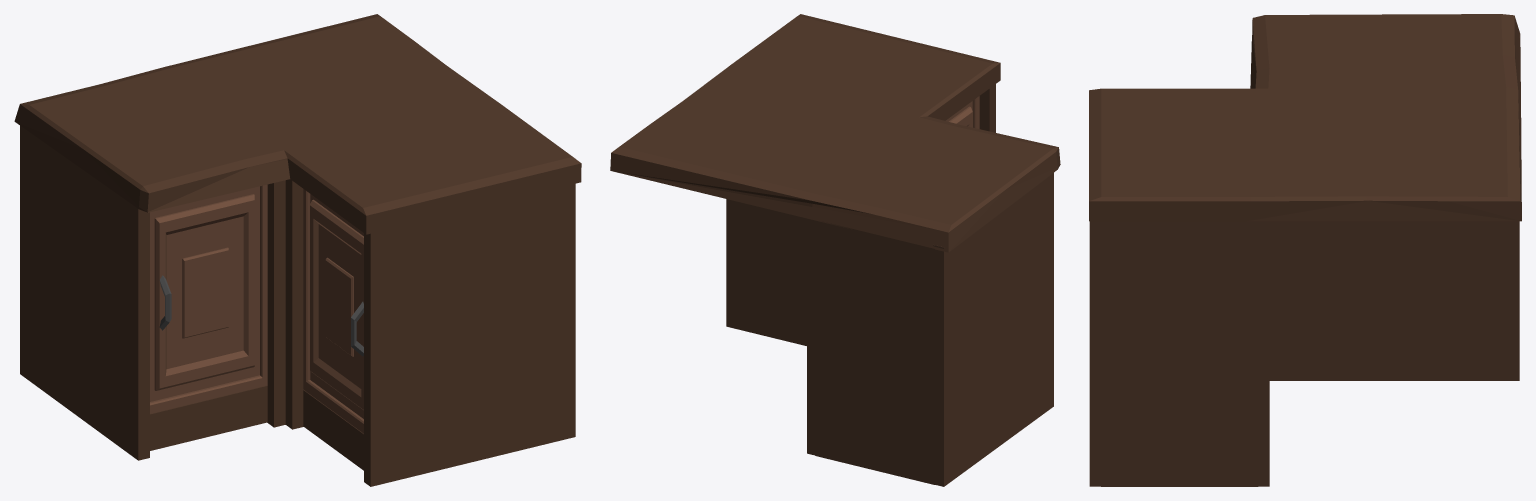
The model's file is Шкаф угл.fbx.
3 views of the same model, side by side, from view 1: azimuth 30°, elevation 25°; view 2: azimuth 150°, elevation 25°; view 3: azimuth 270°, elevation 25° (orthographic). The views are drawn at different scales.
Parts seen in each view (by area): view 1: Cube.007, полка1.001, полка1.002; view 2: Cube.007, полка1.002; view 3: Cube.007.
Part boxes in pixels (x1,y1,x2,y2): Cube.007: (14, 14, 581, 486); полка1.001: (150, 184, 267, 413); полка1.002: (303, 189, 363, 433); Cube.007: (610, 14, 1060, 486); полка1.002: (945, 96, 979, 128); Cube.007: (1089, 14, 1521, 486).
Bounding box in the file's own units: 328 × 238 × 320.
